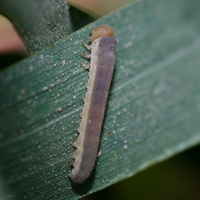insect: (70, 25, 115, 182)
